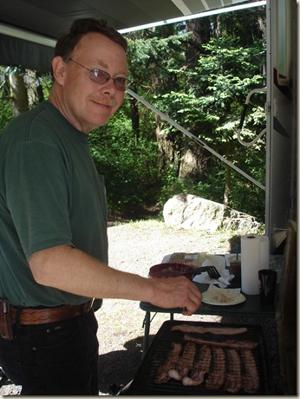person: (1, 23, 203, 399)
